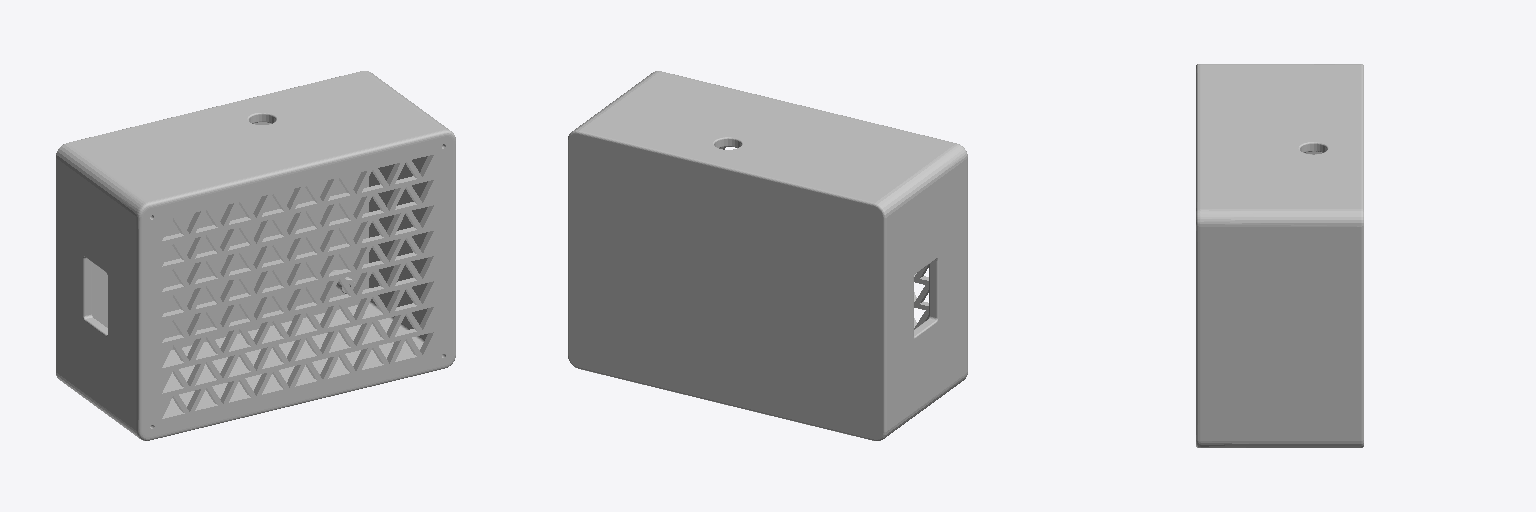
Rendered from universalremote v15.obj.
The picture shows the model from 3 angles: view 1: azimuth 30°, elevation 25°; view 2: azimuth 150°, elevation 25°; view 3: azimuth 270°, elevation 25°; orthographic projection.
Visible parts, largest first — view 1: Körper1, Körper2; view 2: Körper1, Körper2; view 3: Körper1.
Boxes of the visible parts, x1=… form: Körper1: x1=56, y1=71, x2=455, y2=440; Körper2: x1=148, y1=141, x2=447, y2=431; Körper1: x1=568, y1=71, x2=967, y2=440; Körper2: x1=719, y1=147, x2=928, y2=328; Körper1: x1=1196, y1=64, x2=1363, y2=447.
Bounding box in the file's own units: 7 × 5 × 3.2.